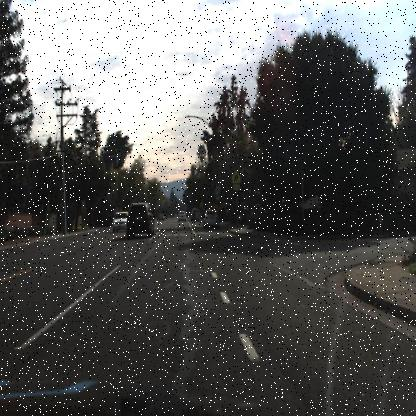car: (123, 198, 157, 242), (112, 211, 127, 236), (205, 210, 219, 227), (176, 208, 188, 225), (175, 209, 187, 223), (191, 207, 201, 223)
